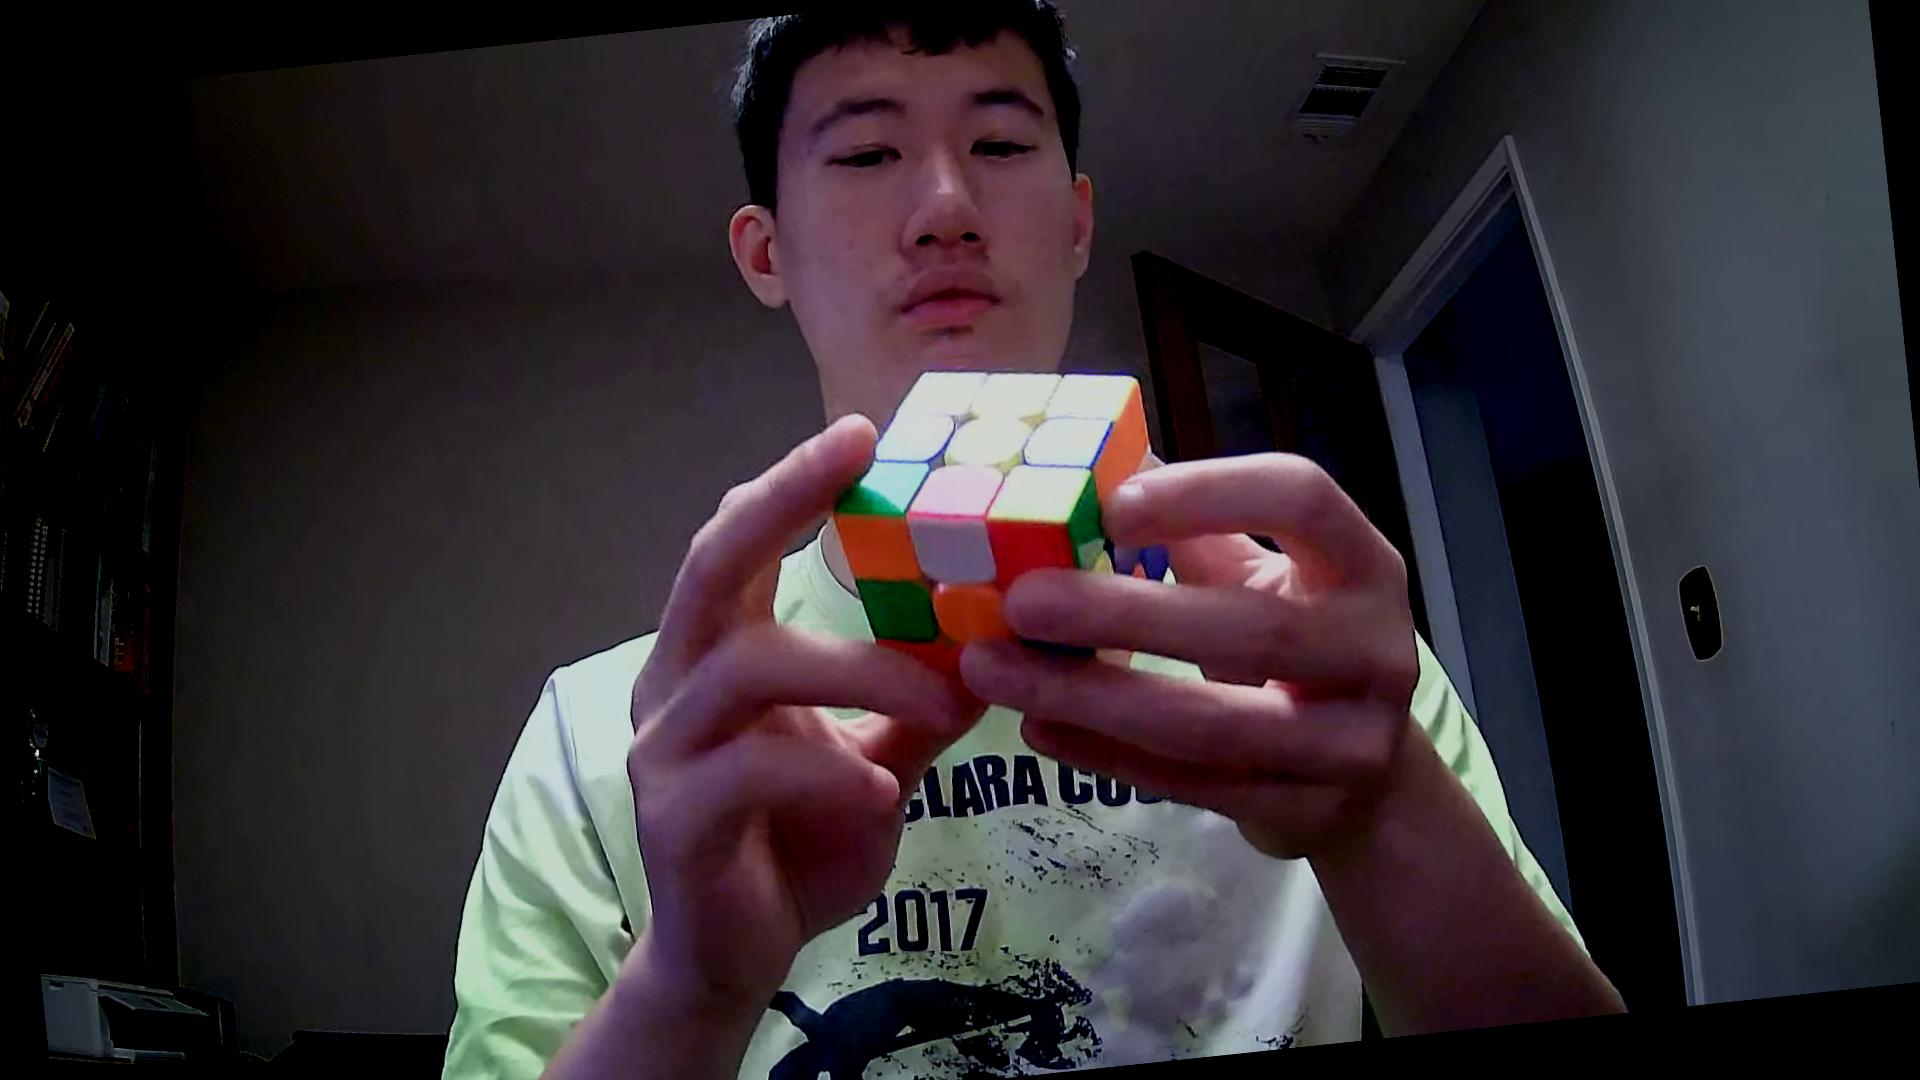Rubiks-Cube: (811, 343, 1188, 645)
